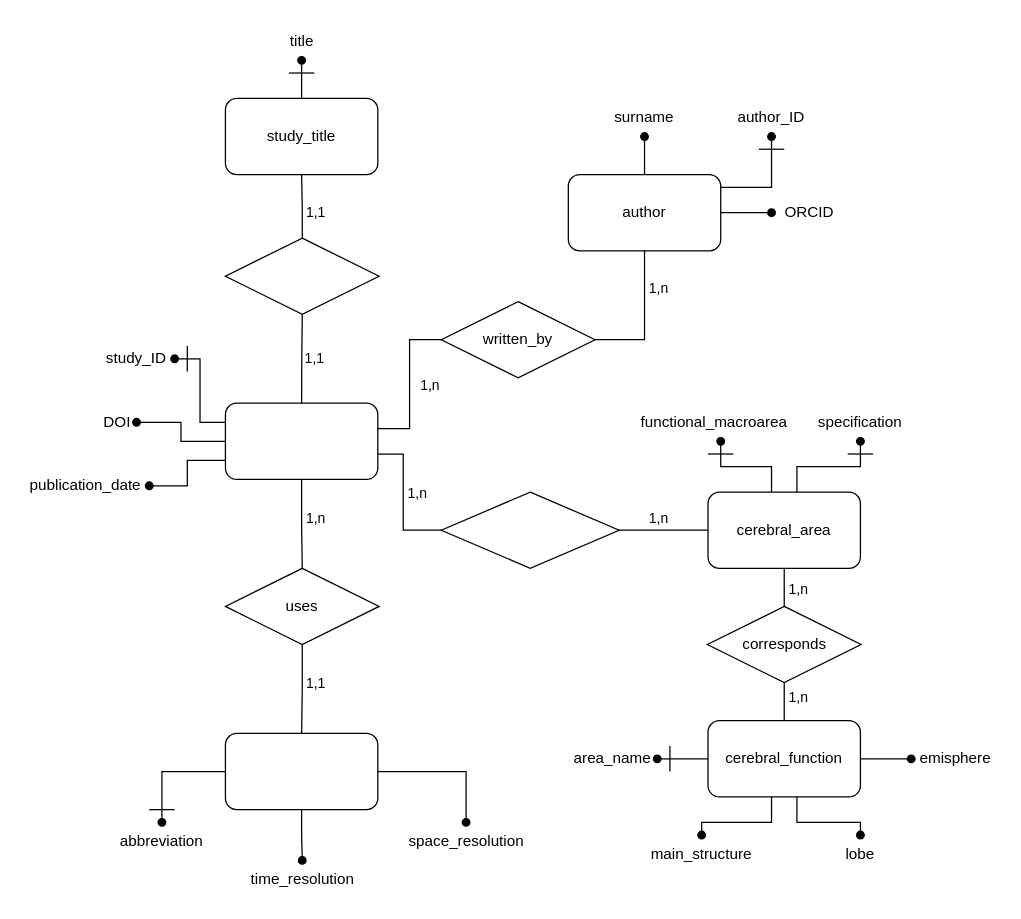
Image size: 1021x919. Some labels were removed from this diagram. Here are the shapes that lost their labels. From the top down, the box of each, then its label:
(224, 237, 379, 314): identifies
(224, 402, 378, 479): study
(440, 491, 619, 568): subject_of_inquiry
(224, 732, 378, 810): technique
